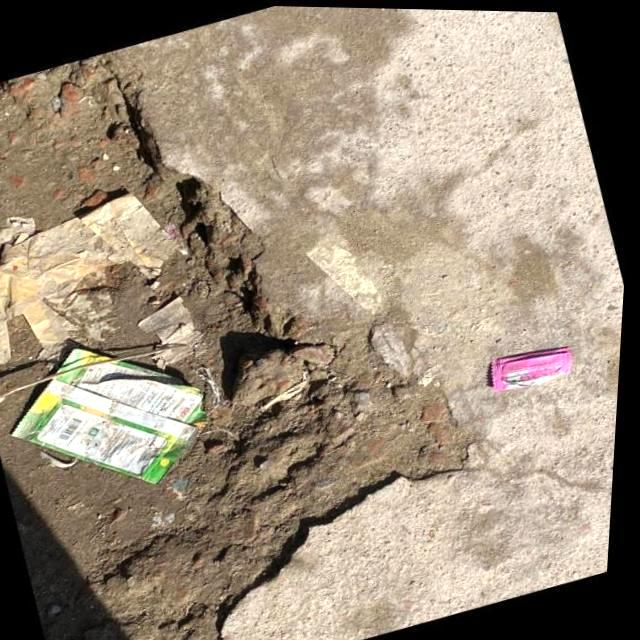packet: (0, 314, 248, 519), (490, 333, 589, 396)
